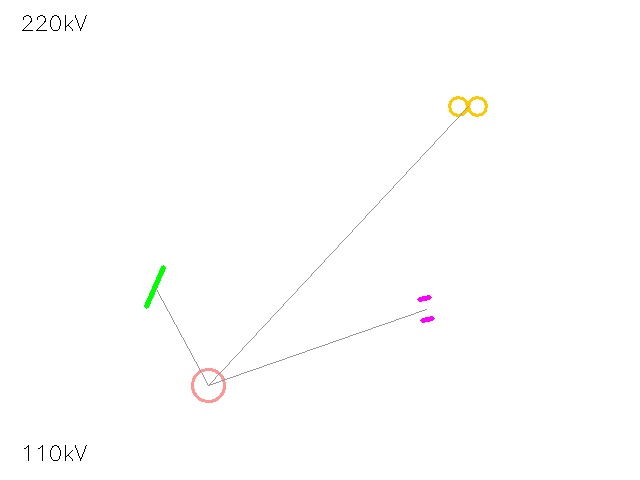busbar: (129, 261, 181, 313)
capacitor: (408, 291, 444, 327)
fuse: (175, 352, 241, 418)
transformer_2w: (444, 82, 492, 130)
